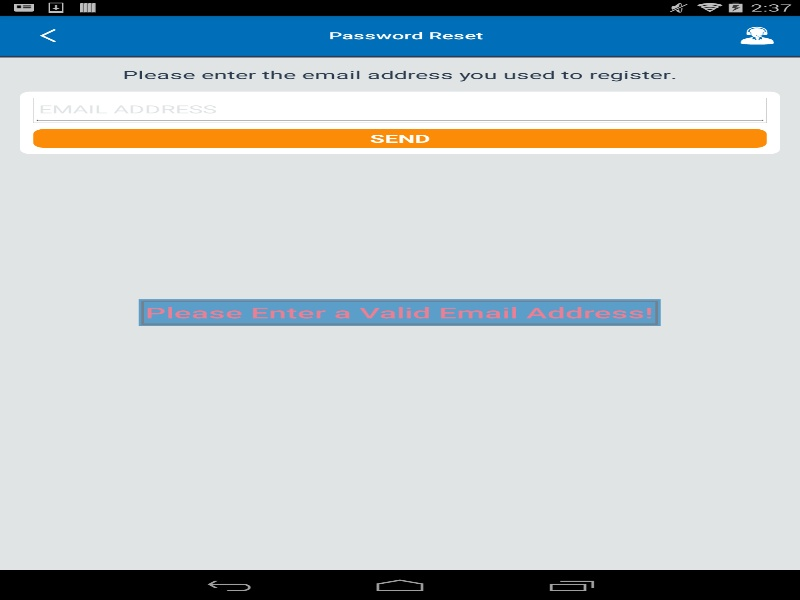Button: (33, 129, 766, 147), (10, 18, 85, 53)
Input: (33, 97, 766, 122)
